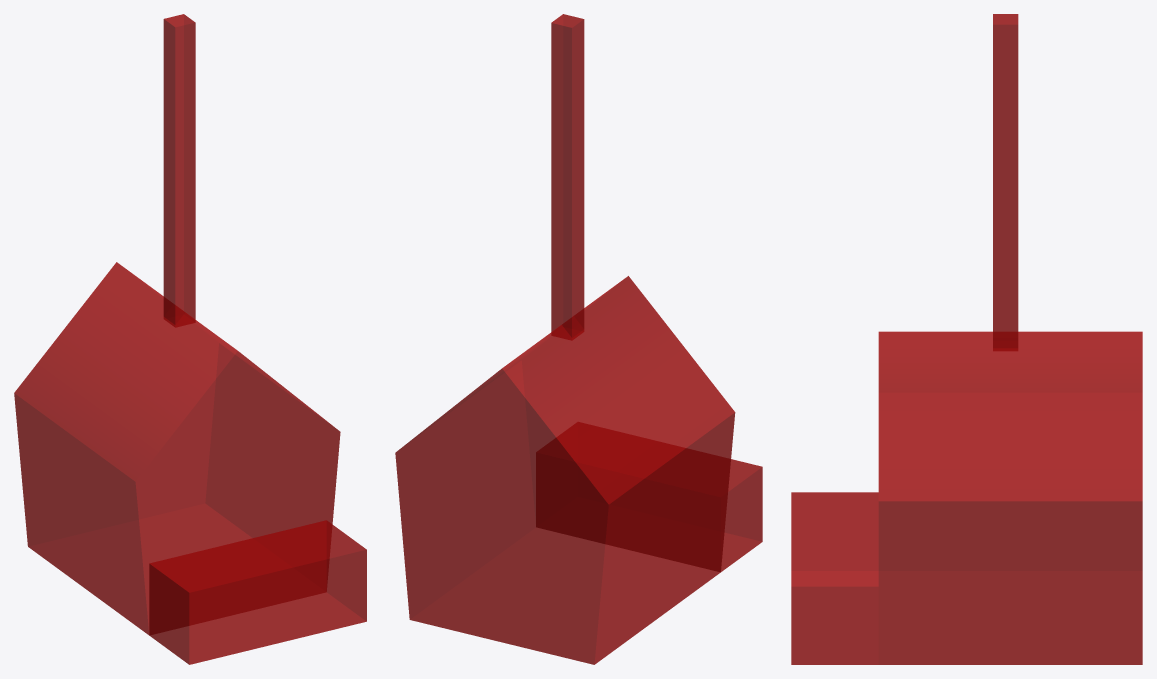
Rendered from SM_Prop_Birdhouse_02_Collision.fbx.
3 renders of one model, left to right at view 1: azimuth 30°, elevation 25°; view 2: azimuth 150°, elevation 25°; view 3: azimuth 270°, elevation 25°, orthographic. The views are drawn at different scales.
Visible parts, largest first — view 1: SM_Prop_Birdhouse_02_Collision; view 2: SM_Prop_Birdhouse_02_Collision; view 3: SM_Prop_Birdhouse_02_Collision.
Boxes of the visible parts, box(x1,y1,x2,y2) form: SM_Prop_Birdhouse_02_Collision: box(14, 14, 366, 664); SM_Prop_Birdhouse_02_Collision: box(395, 14, 762, 664); SM_Prop_Birdhouse_02_Collision: box(791, 14, 1142, 664).
Bounding box in the file's own units: 52.08 × 134 × 71.06.
